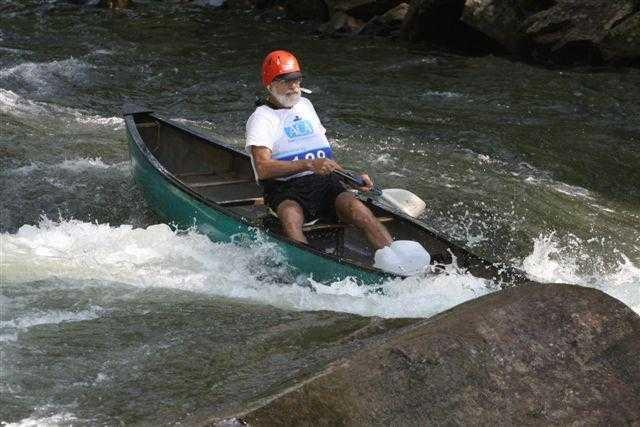kayak: (124, 108, 433, 292)
